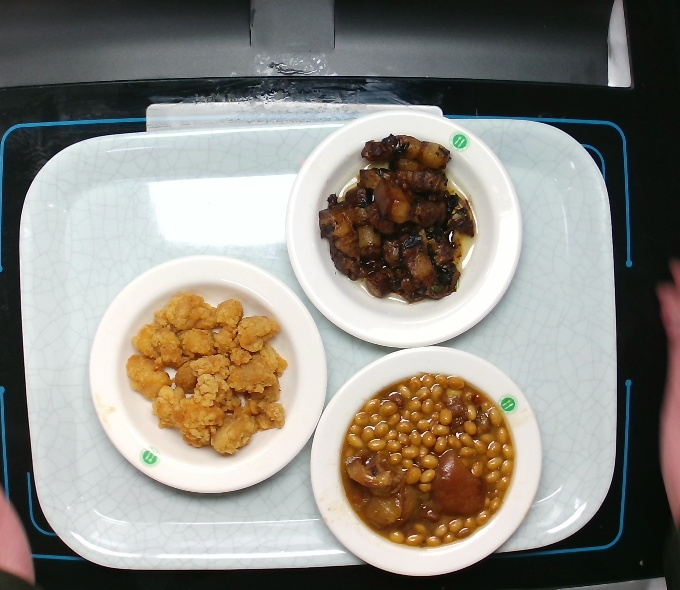wcq-GanCaiRou: (318, 132, 478, 304)
wcq-HuangDouZhuJiao: (339, 369, 517, 549)
wcq-JiMiHua: (124, 292, 290, 457)
